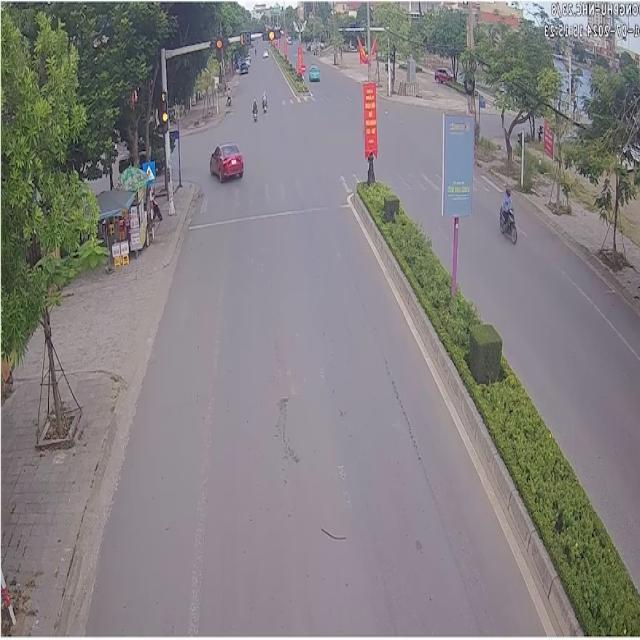car: (208, 141, 242, 179), (307, 64, 318, 79)
motobike: (497, 185, 516, 241), (250, 97, 256, 120), (260, 90, 266, 111)
stop_line: (187, 203, 346, 227)
yellow_light: (209, 35, 227, 51), (260, 27, 281, 40), (161, 90, 166, 132), (239, 30, 250, 44)
